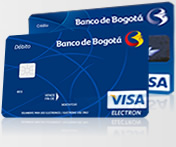tarjeta: (28, 2, 175, 95), (1, 27, 150, 117)
